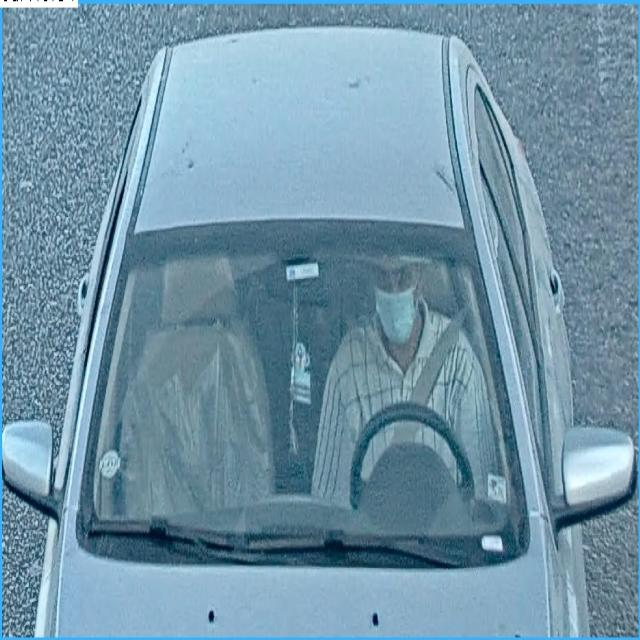windshield: (84, 235, 525, 555)
